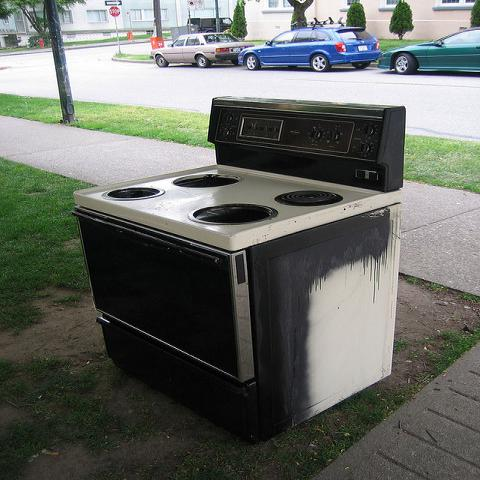car: (237, 17, 381, 72), (378, 28, 480, 74), (149, 33, 255, 68)
